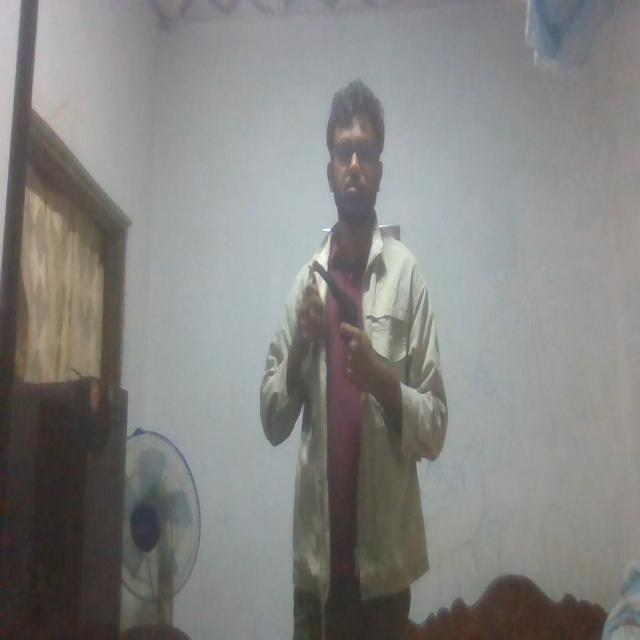Gun_Holder: (306, 252, 391, 374)
Jacket_Wearer: (260, 228, 450, 594)
Person: (263, 91, 453, 640)
